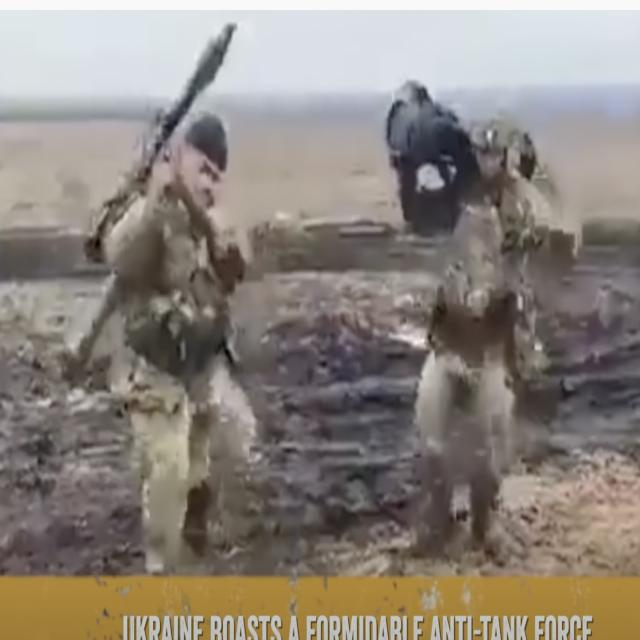bazooka: (70, 1, 268, 295), (362, 72, 497, 266)
